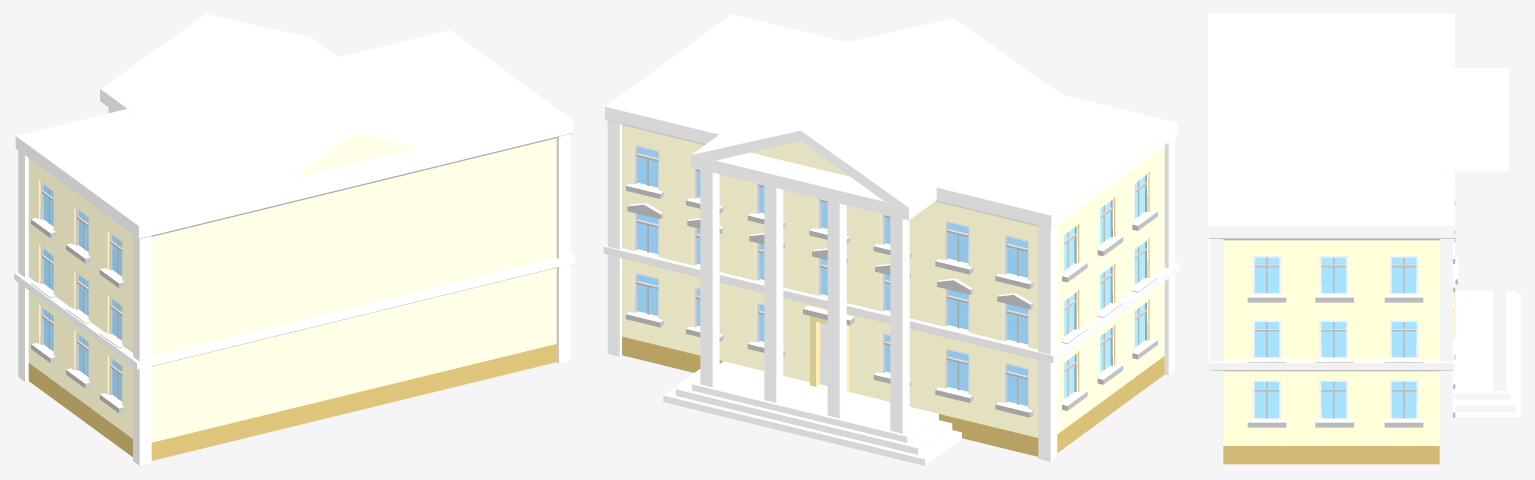
File: art.glb
3 renders of one model, left to right at view 1: azimuth 30°, elevation 25°; view 2: azimuth 150°, elevation 25°; view 3: azimuth 270°, elevation 25°, orthographic. The views are drawn at different scales.
Visible parts, largest first — view 1: art(Clone); view 2: art(Clone); view 3: art(Clone).
Boxes of the visible parts, <box> form: art(Clone): <box>14,14,574,465</box>; art(Clone): <box>603,14,1179,465</box>; art(Clone): <box>1208,14,1520,465</box>.
Size of the model in its own units: 15.29 by 9.7 by 9.45.
1 material, 1 textured.
